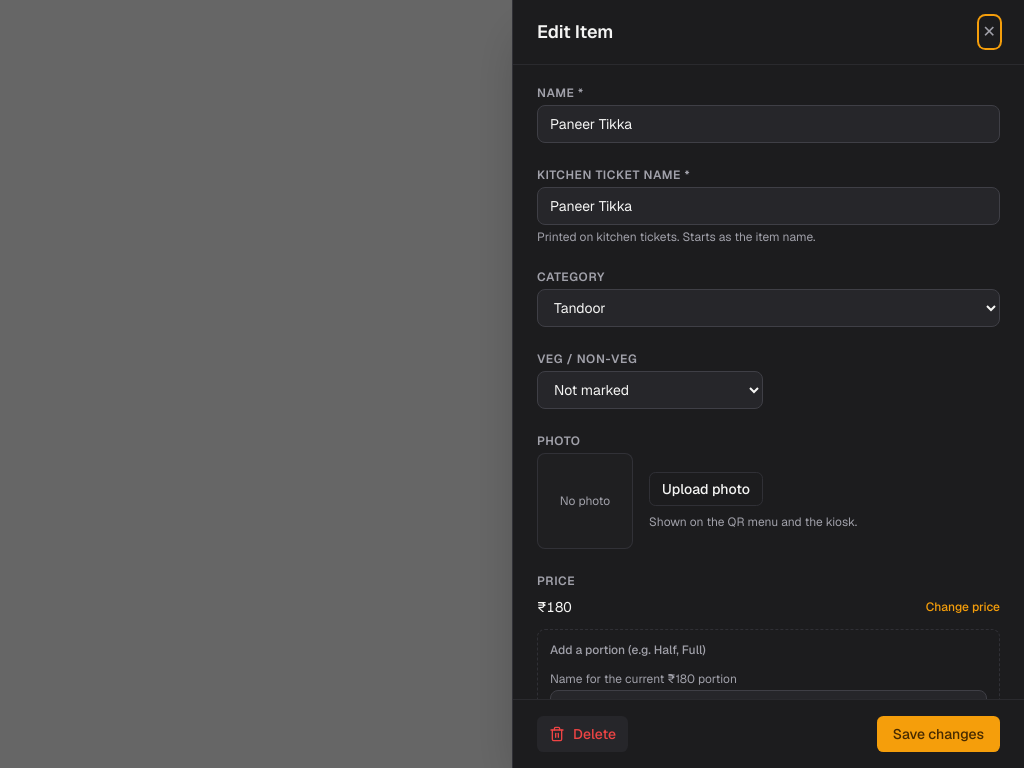
Test: ItemDrawer delete (issue #248) › cancelling the confirmation deletes nothing
The width and height of the screenshot is (1024, 768).
Step 1. Click the button with test id "item-delete" → (583, 734), box top-left (537, 716), bottom-right (628, 752)
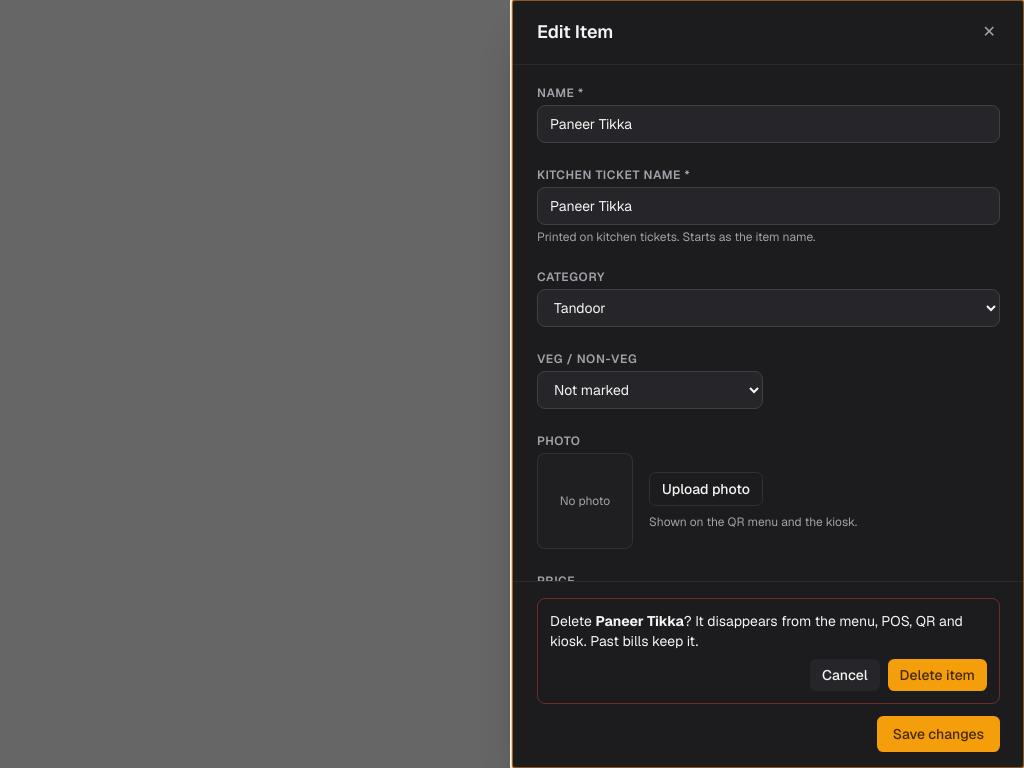
Step 2. Click the button with test id "item-delete-cancel" → (845, 675), box top-left (810, 659), bottom-right (880, 691)
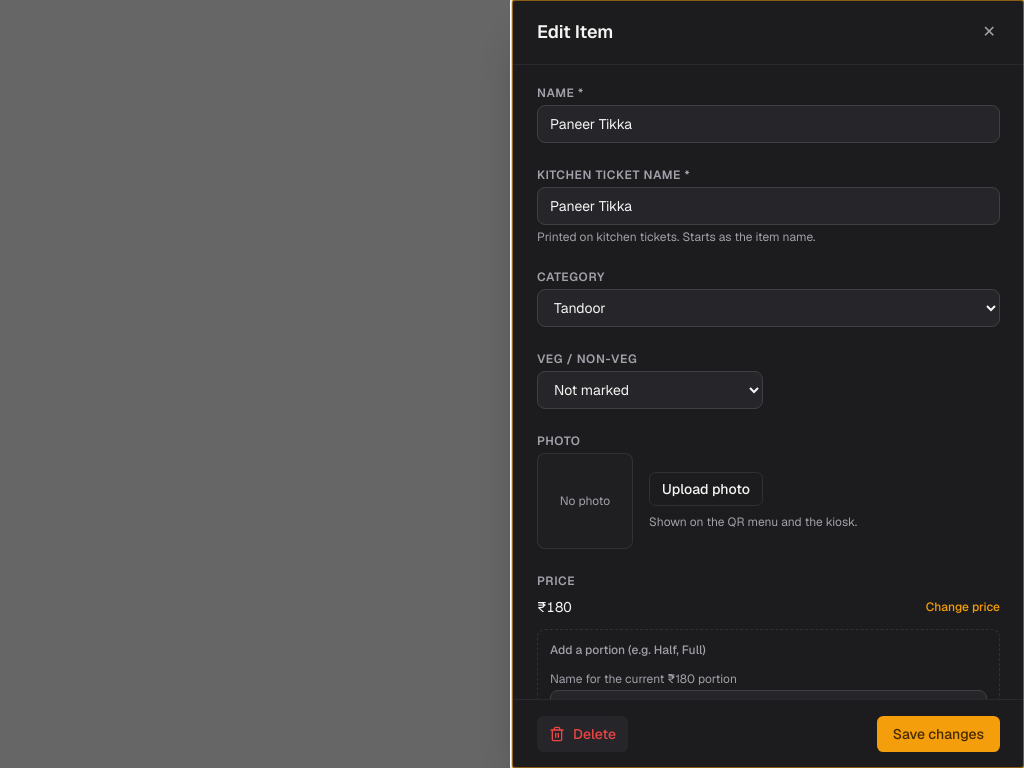
Result: the message with test id "item-delete-confirm" is gone
